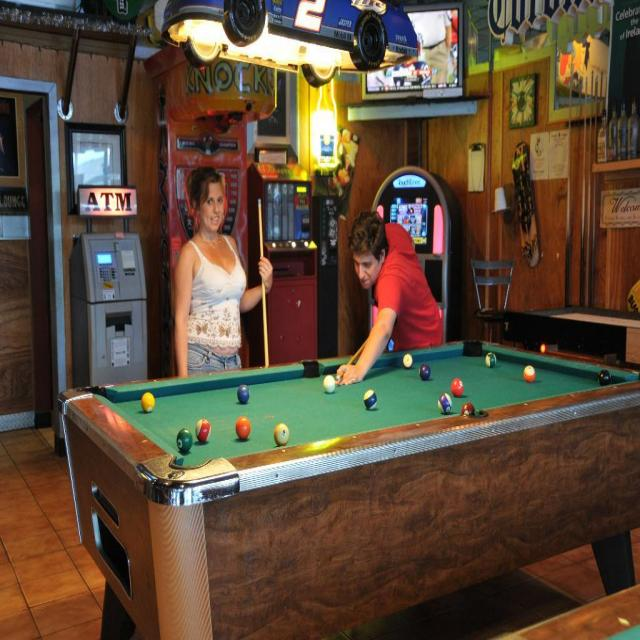Table: (56, 340, 640, 639)
